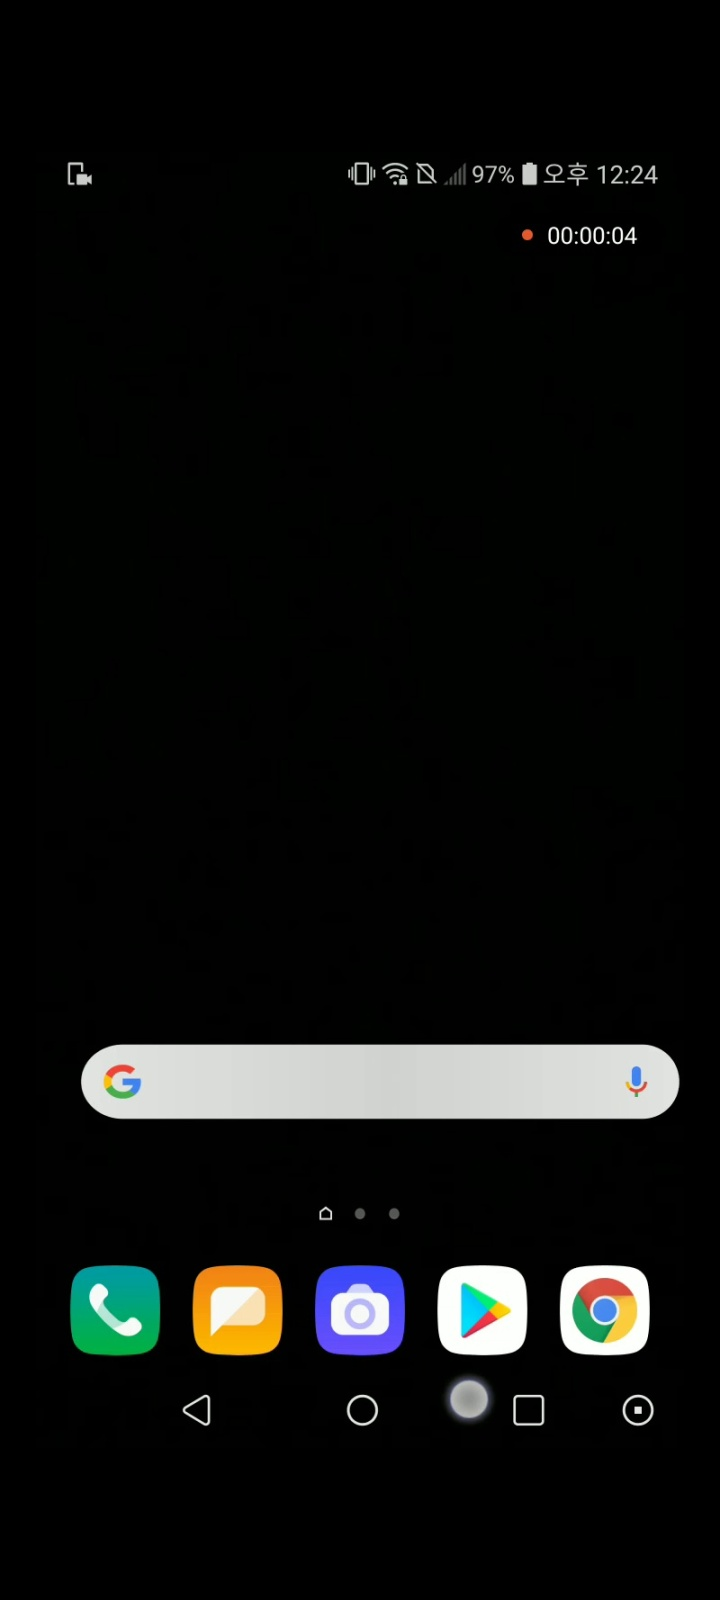Cursor: (448, 1378, 493, 1423)
